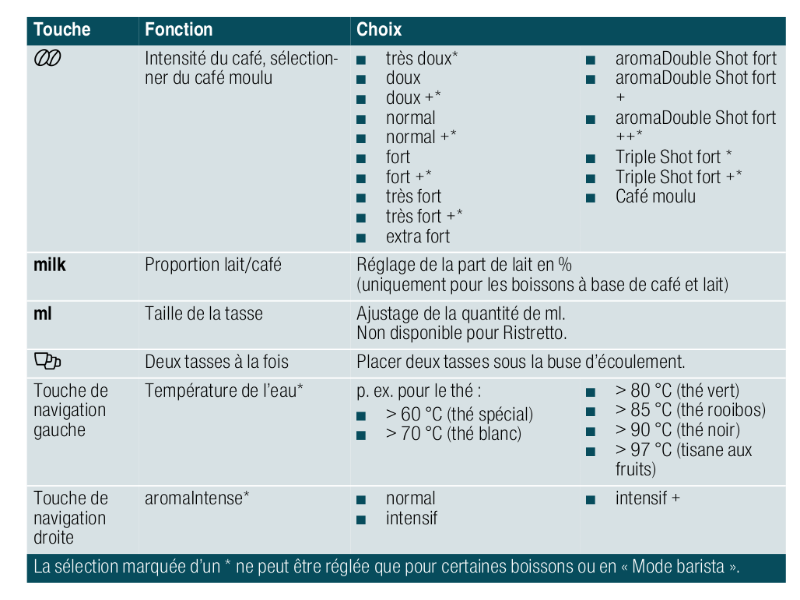borderless: (17, 12, 792, 589)
cell: (582, 46, 782, 207), (353, 48, 485, 246), (576, 381, 774, 481), (29, 555, 748, 578), (354, 255, 737, 293), (352, 383, 541, 459), (141, 48, 340, 86), (355, 305, 569, 340), (354, 351, 688, 371), (28, 381, 114, 443), (30, 490, 118, 548), (352, 491, 457, 530), (144, 380, 305, 400), (143, 254, 283, 275), (142, 303, 282, 324), (145, 351, 295, 369), (141, 487, 260, 507), (581, 491, 683, 506), (31, 18, 94, 40), (142, 21, 219, 38), (354, 19, 431, 36), (29, 46, 80, 68), (29, 255, 72, 277), (28, 302, 71, 324), (28, 350, 71, 372)
